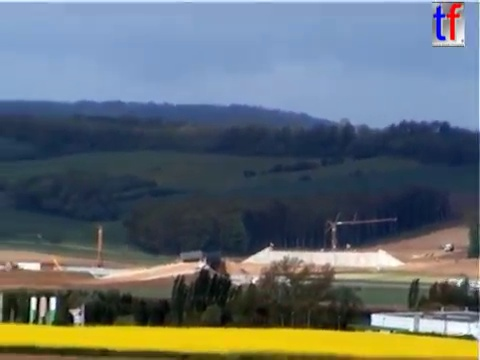crane: (318, 209, 400, 255), (91, 223, 109, 273)
